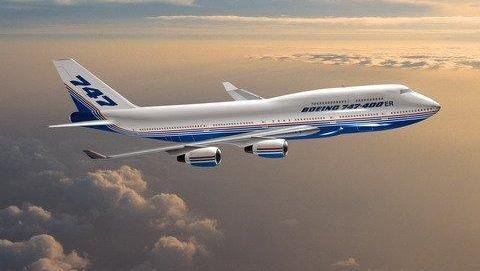airplane: (42, 50, 444, 168)
